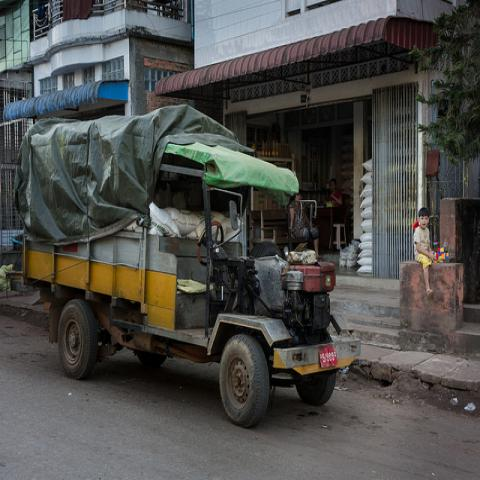truck: (0, 106, 337, 332)
